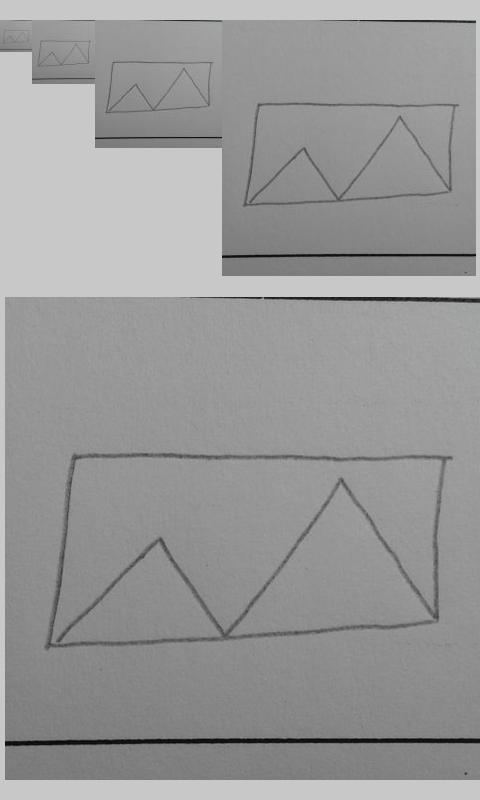image_view: (46, 446, 448, 651), (240, 98, 457, 211), (106, 60, 212, 114), (37, 39, 91, 68), (3, 29, 30, 45)
